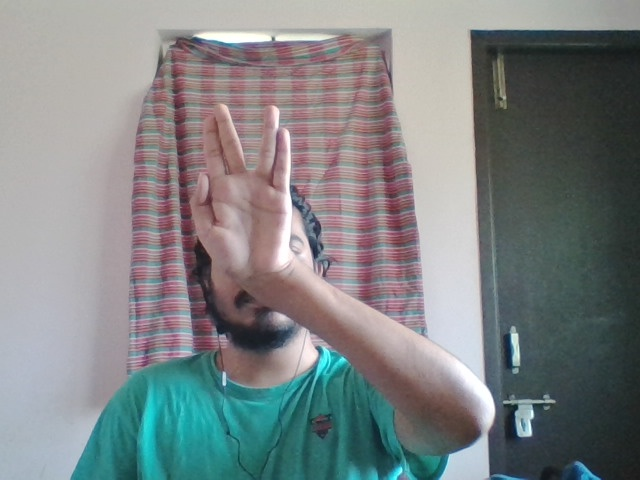LiveLong: (190, 103, 294, 278)
